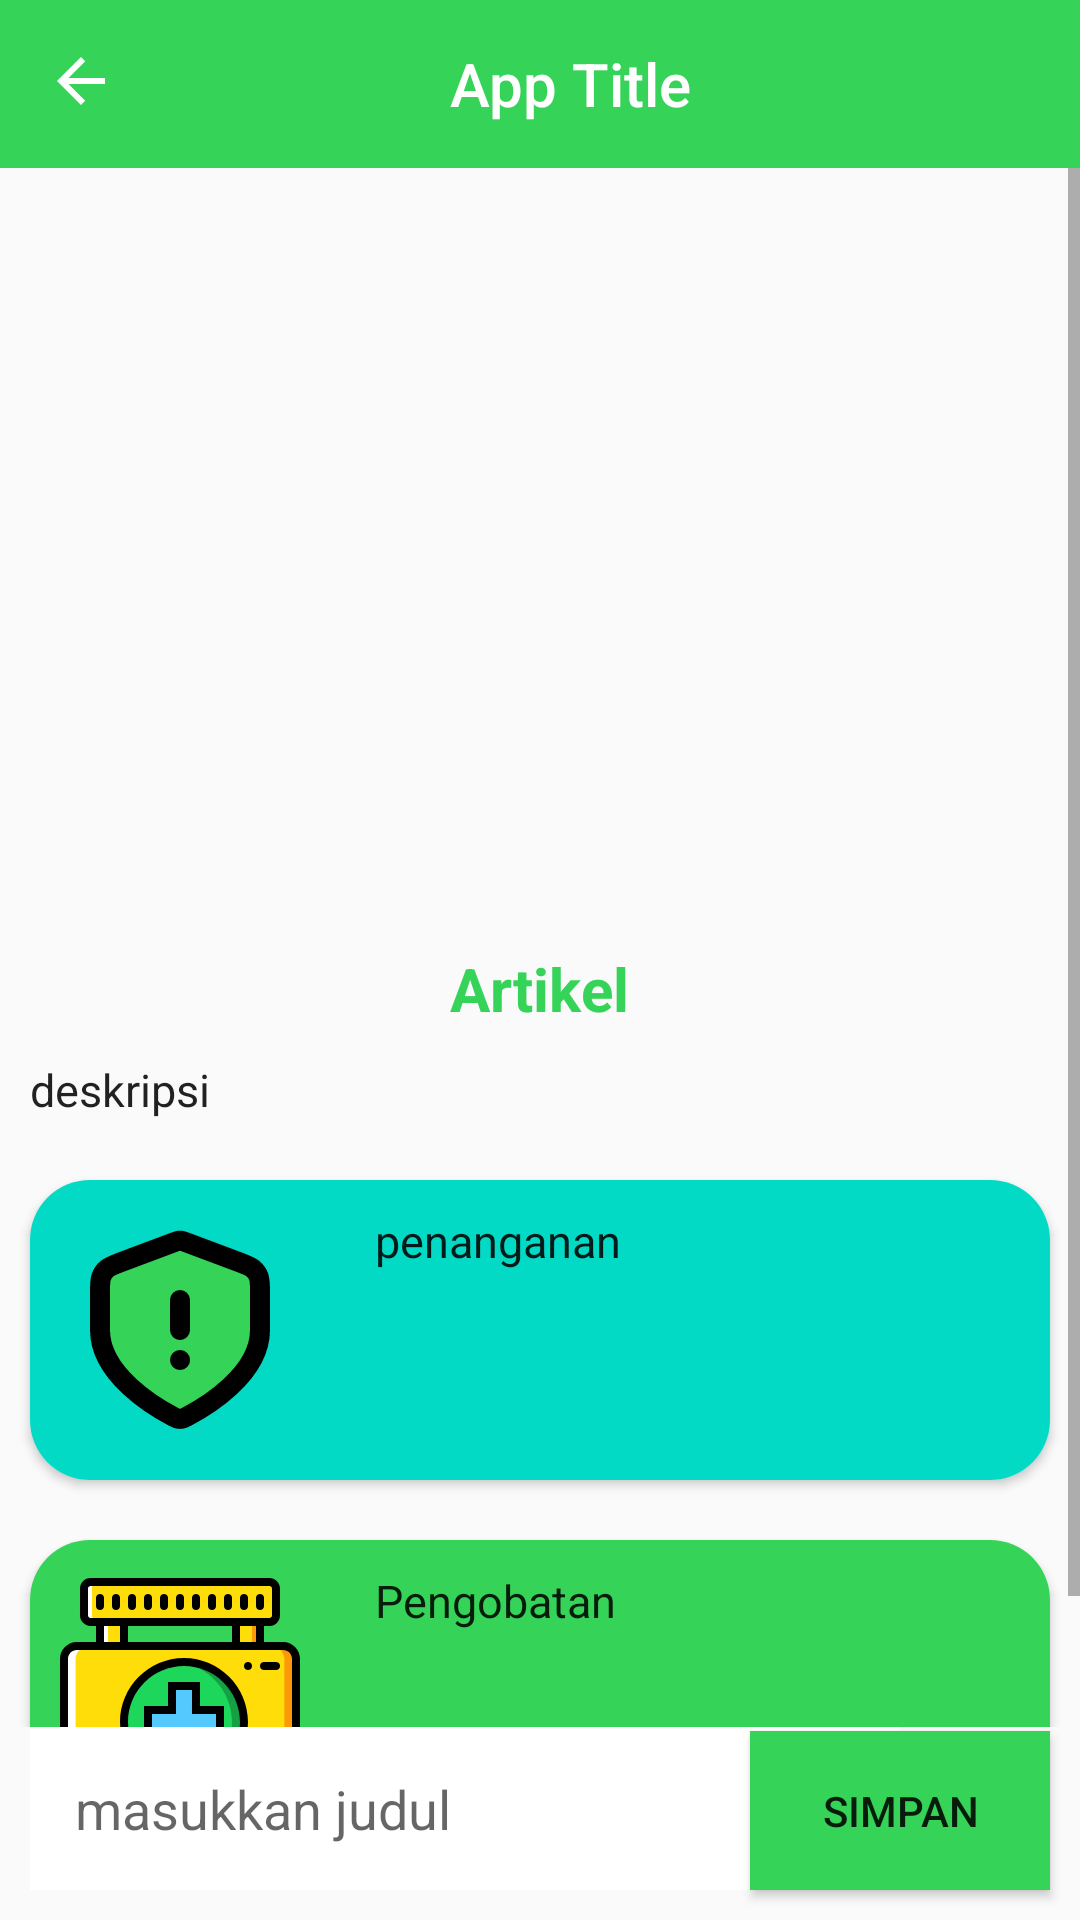

Where icons sit on this 1080*1920 app screen, as (x1, y1, x2, y2):
backbutton: (57, 57, 105, 105)
